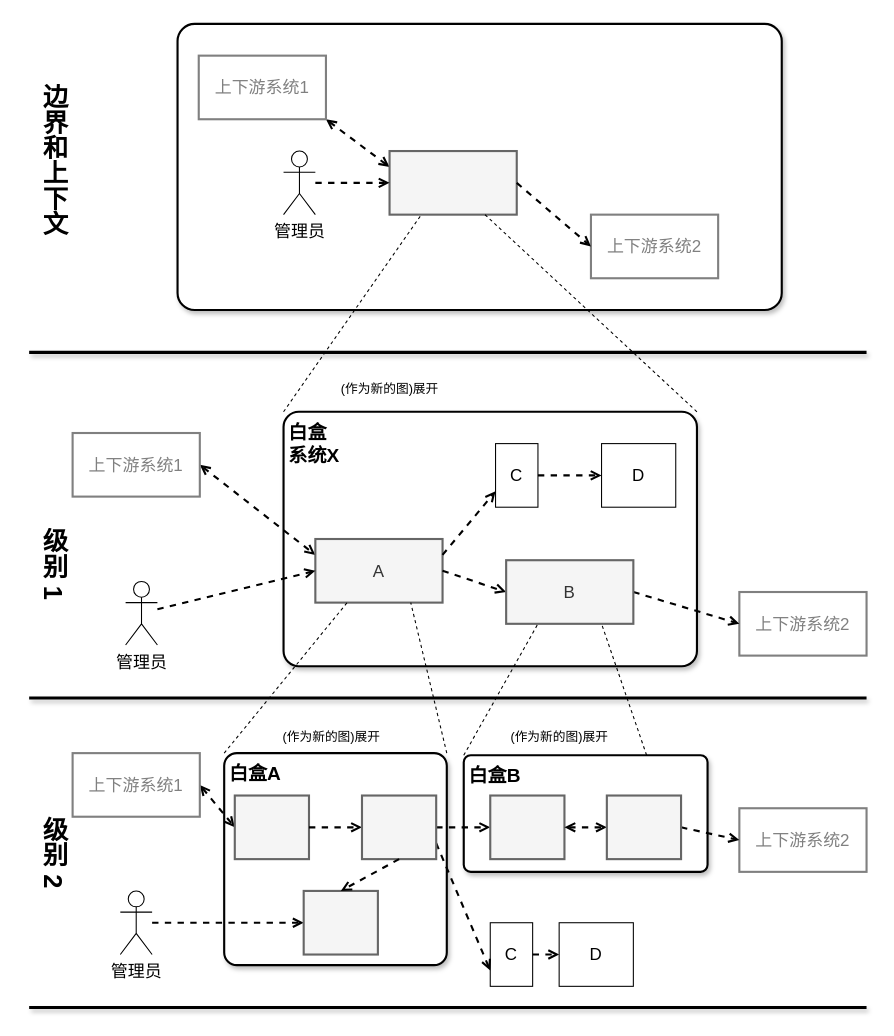
Image size: 894x1036. Some labels were removed from this diagram. Each missing label, with the centre of its shape:
"A1" belongs at (271,827).
"A2" belongs at (398,827).
"A3" belongs at (340,922).
"B1" belongs at (527,827).
"B2" belongs at (643,827).
"系统X" belongs at (452,182).
